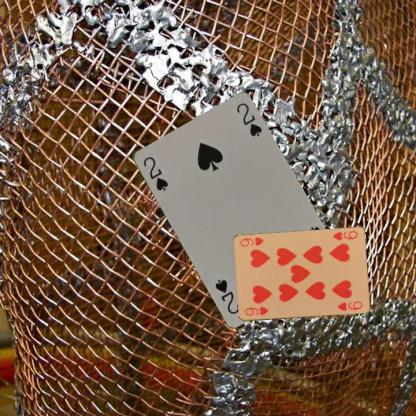2s: (140, 154, 169, 192)
9h: (330, 228, 359, 242), (242, 304, 270, 317)
